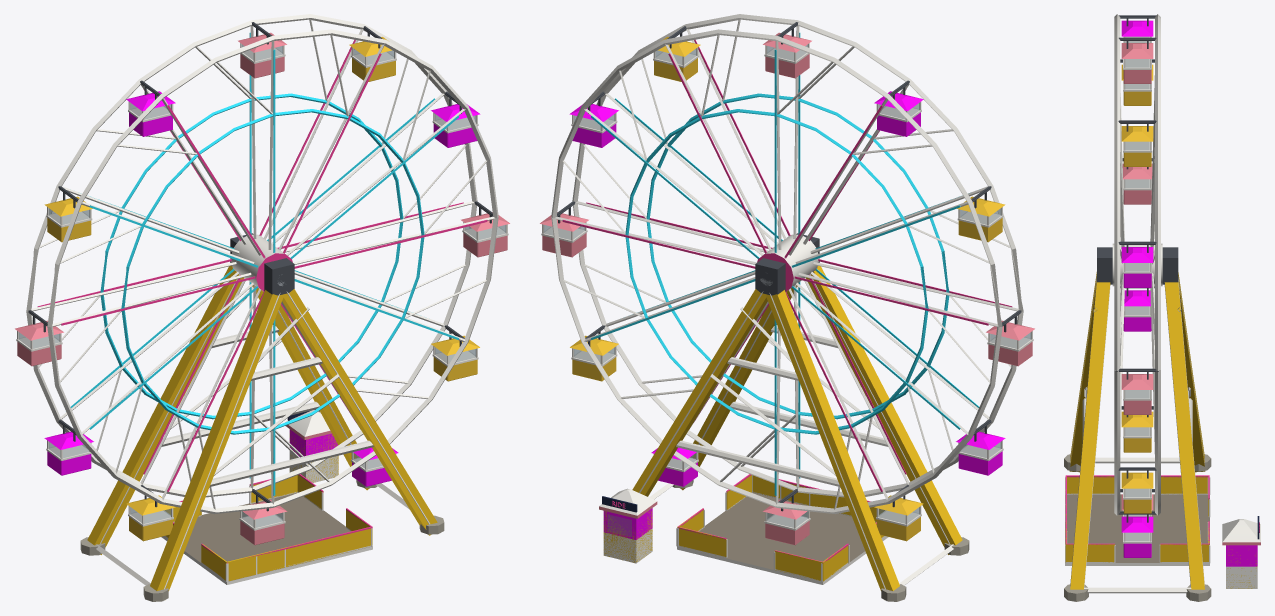
The model's file is lm_ferris_wheel.glb.
3 renders of one model, left to right at view 1: azimuth 30°, elevation 25°; view 2: azimuth 150°, elevation 25°; view 3: azimuth 270°, elevation 25°, orthographic. The views are drawn at different scales.
Parts seen in each view (by area): view 1: lm_ferris_wheel__wheel, lm_ferris_wheel__col, lm_ferris_wheel, lm_ferris_wheel__base; view 2: lm_ferris_wheel__wheel, lm_ferris_wheel__col, lm_ferris_wheel__base, lm_ferris_wheel; view 3: lm_ferris_wheel__col, lm_ferris_wheel, lm_ferris_wheel__base, lm_ferris_wheel__wheel.
Part boxes in pixels (left/top/right/bottom): lm_ferris_wheel__wheel: left=26, top=14, right=498, bottom=514; lm_ferris_wheel__col: left=87, top=266, right=437, bottom=590; lm_ferris_wheel: left=15, top=22, right=509, bottom=545; lm_ferris_wheel__base: left=80, top=233, right=444, bottom=601; lm_ferris_wheel__wheel: left=551, top=14, right=1023, bottom=514; lm_ferris_wheel__col: left=603, top=266, right=962, bottom=590; lm_ferris_wheel__base: left=599, top=233, right=969, bottom=601; lm_ferris_wheel: left=540, top=22, right=1034, bottom=545; lm_ferris_wheel__col: left=1065, top=272, right=1256, bottom=589; lm_ferris_wheel: left=1118, top=15, right=1156, bottom=557; lm_ferris_wheel__base: left=1064, top=247, right=1260, bottom=601; lm_ferris_wheel__wheel: left=1112, top=14, right=1162, bottom=515.
Size of the model in its own units: 23.66 by 24.29 by 8.7.
Materials: 2 (1 with a texture image).
